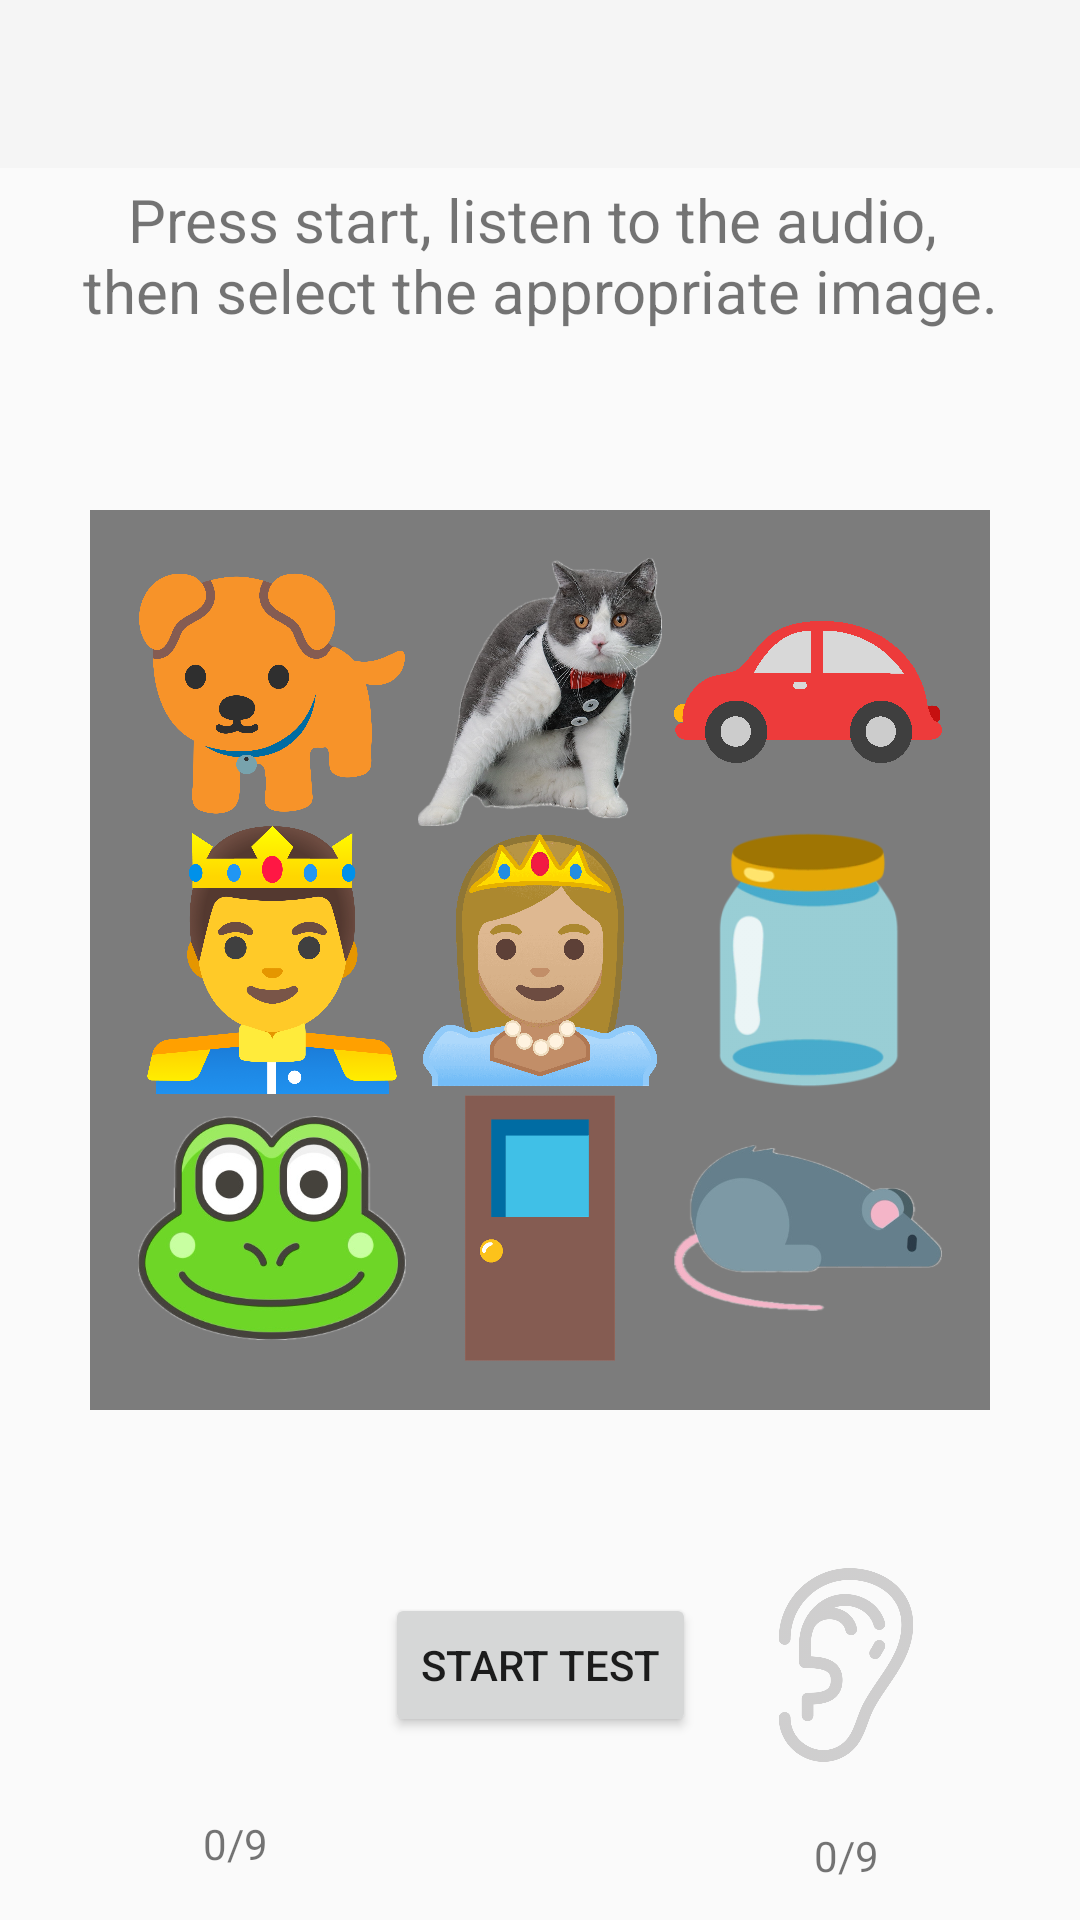

Icons on this 1080x1920 Android screen, each with its box as (x1=x1, y1=y1, x2=x2, y2=y2):
car: (x1=674, y1=621, x2=942, y2=763)
cat: (x1=418, y1=559, x2=662, y2=826)
dog: (x1=139, y1=574, x2=405, y2=814)
door: (x1=465, y1=1096, x2=615, y2=1360)
frog: (x1=138, y1=1116, x2=406, y2=1340)
jar: (x1=720, y1=834, x2=898, y2=1086)
king: (x1=147, y1=826, x2=397, y2=1094)
queen: (x1=423, y1=834, x2=657, y2=1086)
rat: (x1=674, y1=1145, x2=942, y2=1311)
